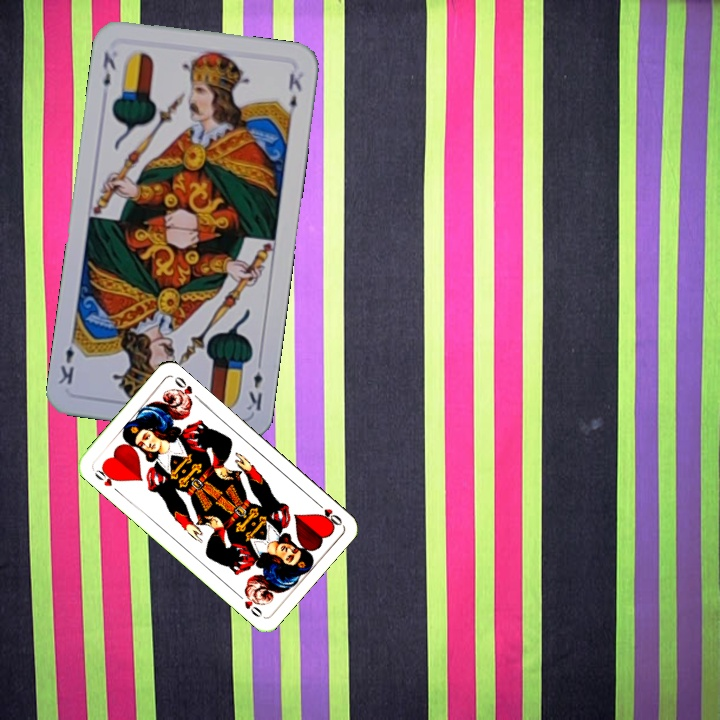EK: (243, 355, 265, 413), (98, 47, 119, 89)
HO: (311, 497, 345, 530), (90, 463, 122, 496)
